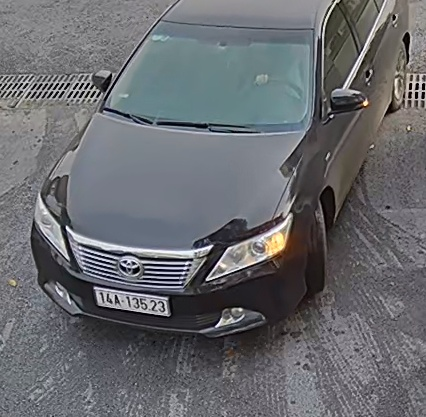vehicle plate: (92, 285, 177, 325)
